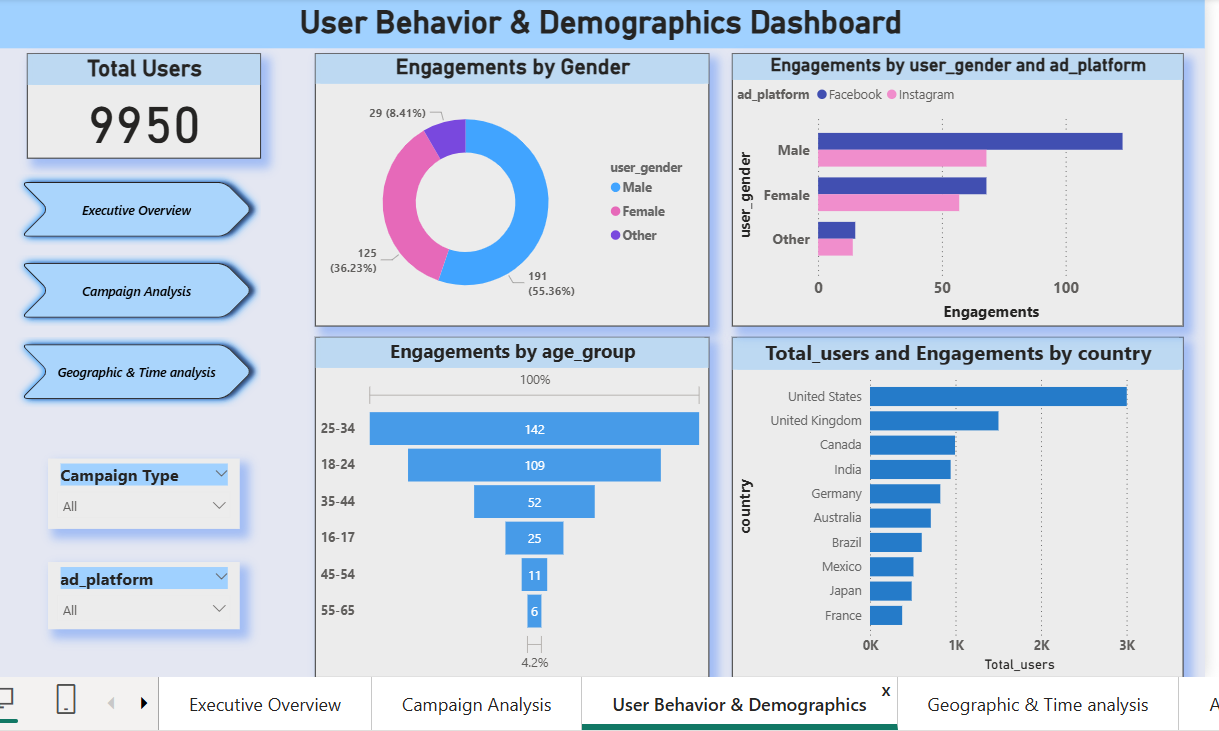

The dashboard page shown, as its layout file describes it:
{"tool":"powerbi","page":{"name":"User Behavior & Demographics ","canvas":[1280,720],"ordinal":2},"visuals":[{"type":"donutChart","title":"Engagements by Gender","fields":{"Category":["users.user_gender"],"Y":["ad_events.Engagements"]},"box":[337.2,58.9,418.3,289.5],"z":0},{"type":"clusteredBarChart","fields":{"Category":["users.country"],"Y":["users.Total_users"]},"box":[779.4,359.5,478.8,361.1],"z":1000},{"type":"textbox","box":[0,0,1280.8,53.4],"z":2000},{"type":"funnel","fields":{"Category":["users.age_group"],"Y":["ad_events.Engagements"]},"box":[337.2,359.5,418.3,361.1],"z":3000},{"type":"slicer","fields":{"Values":["ads.ad_platform"]},"box":[54.1,598.1,203.6,71.6],"z":4000},{"type":"slicer","fields":{"Values":["campaigns.Campaign Type"]},"box":[54.1,488.3,203.6,74.8],"z":5000},{"type":"clusteredBarChart","title":"Engagements by user_gender and ad_platform","fields":{"Y":["ad_events.Engagements"],"Category":["users.user_gender"],"Series":["ads.ad_platform"]},"box":[779.4,58.9,478.8,289.5],"z":6000},{"type":"pageNavigator","box":[15.9,186.1,264,248.1],"z":7000},{"type":"card","title":"Total Users","fields":{"Values":["users.Total_users"]},"box":[31.8,58.9,248.1,111.3],"z":8000}]}

Visuals, with their boxes in screenshot pixels (x1, y1, x2, y2):
"Engagements by Gender" donutChart: (x1=314, y1=68, x2=706, y2=340)
clusteredBarChart - users.country x users.Total_users: (x1=729, y1=350, x2=1179, y2=689)
textbox: (x1=0, y1=13, x2=1200, y2=63)
funnel - users.age_group x ad_events.Engagements: (x1=314, y1=350, x2=706, y2=689)
slicer - ads.ad_platform: (x1=48, y1=574, x2=239, y2=642)
slicer - campaigns.Campaign Type: (x1=48, y1=471, x2=239, y2=542)
"Engagements by user_gender and ad_platform" clusteredBarChart: (x1=729, y1=68, x2=1179, y2=340)
pageNavigator: (x1=12, y1=187, x2=260, y2=420)
"Total Users" card: (x1=27, y1=68, x2=260, y2=173)
